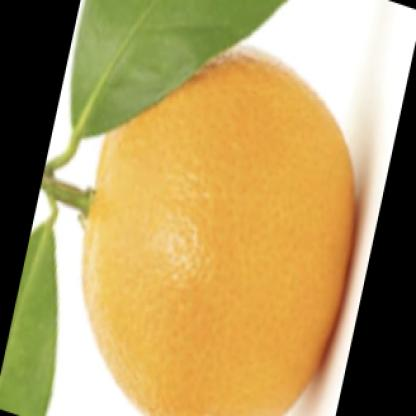fresh: (76, 48, 355, 416)
